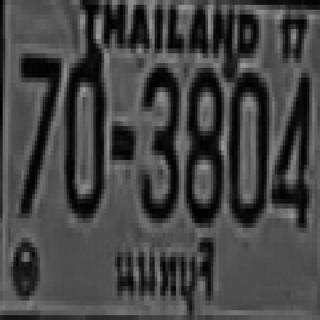N00: (61, 49, 104, 213), (227, 68, 267, 223)
N03: (139, 63, 179, 218)
N04: (271, 68, 308, 223)
N07: (19, 49, 59, 213)
N08: (184, 65, 221, 221)
P37: (111, 234, 217, 320)
